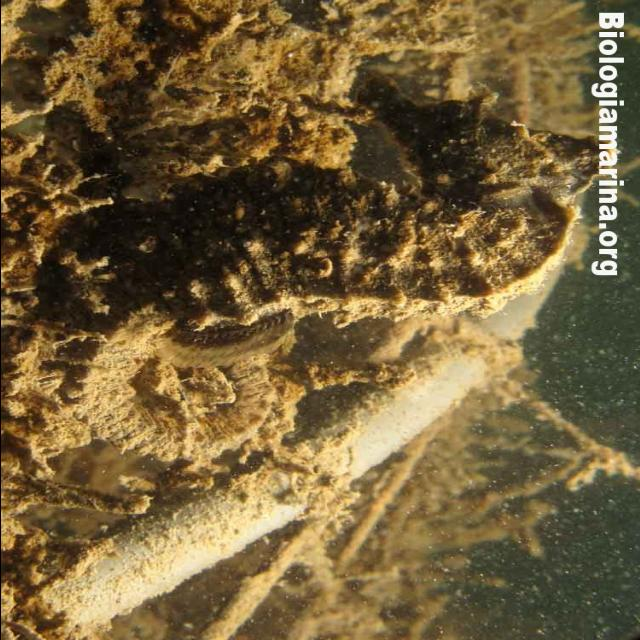Hippo: (354, 73, 608, 209)
